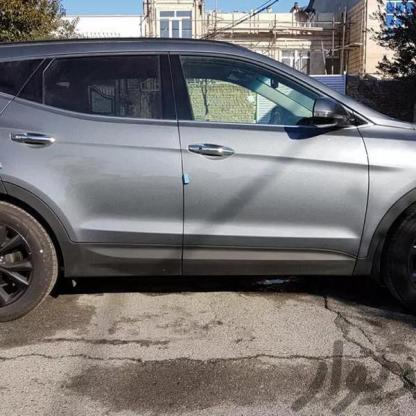Car: (0, 30, 416, 331)
